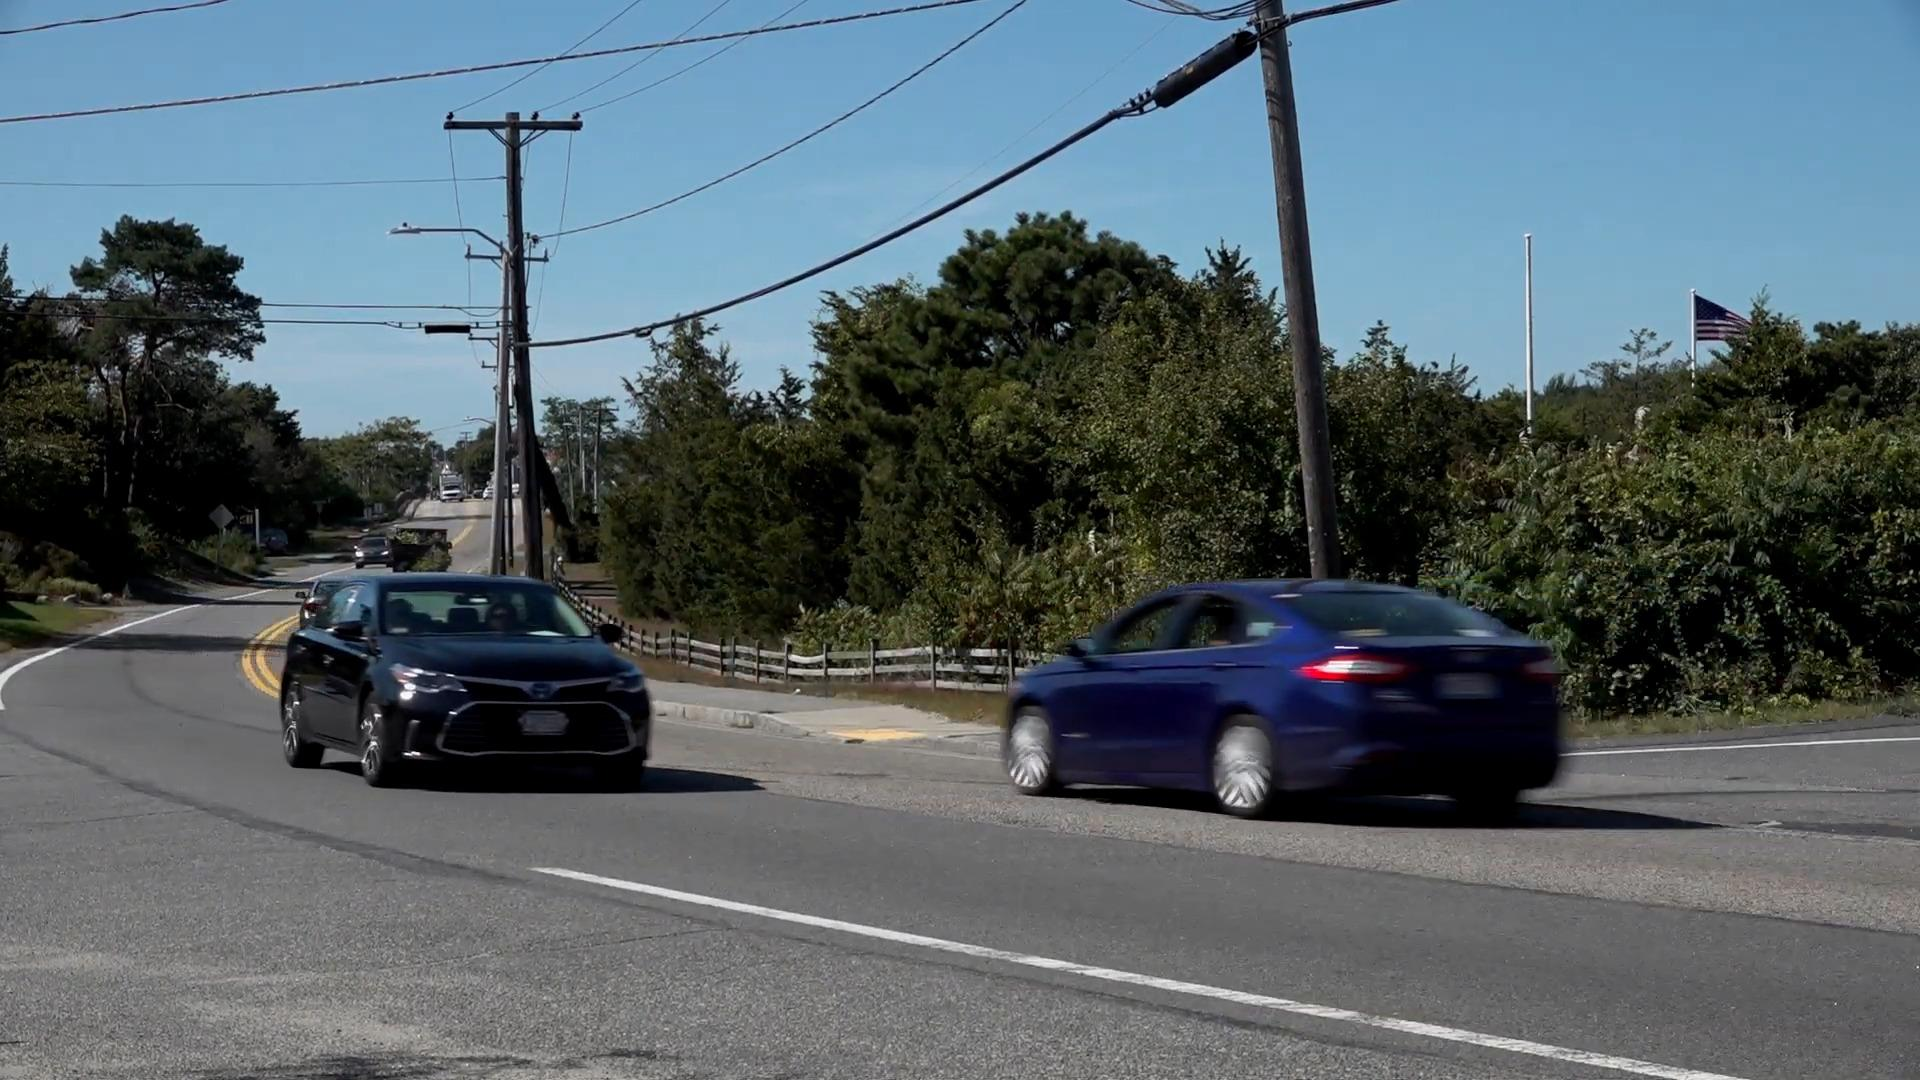sedans: (1002, 567, 1581, 825), (280, 563, 653, 791)
